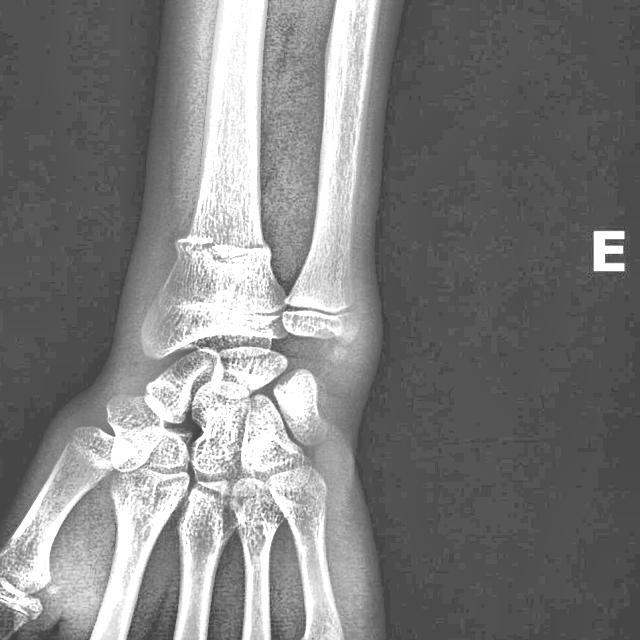fracture: (175, 234, 273, 258)
